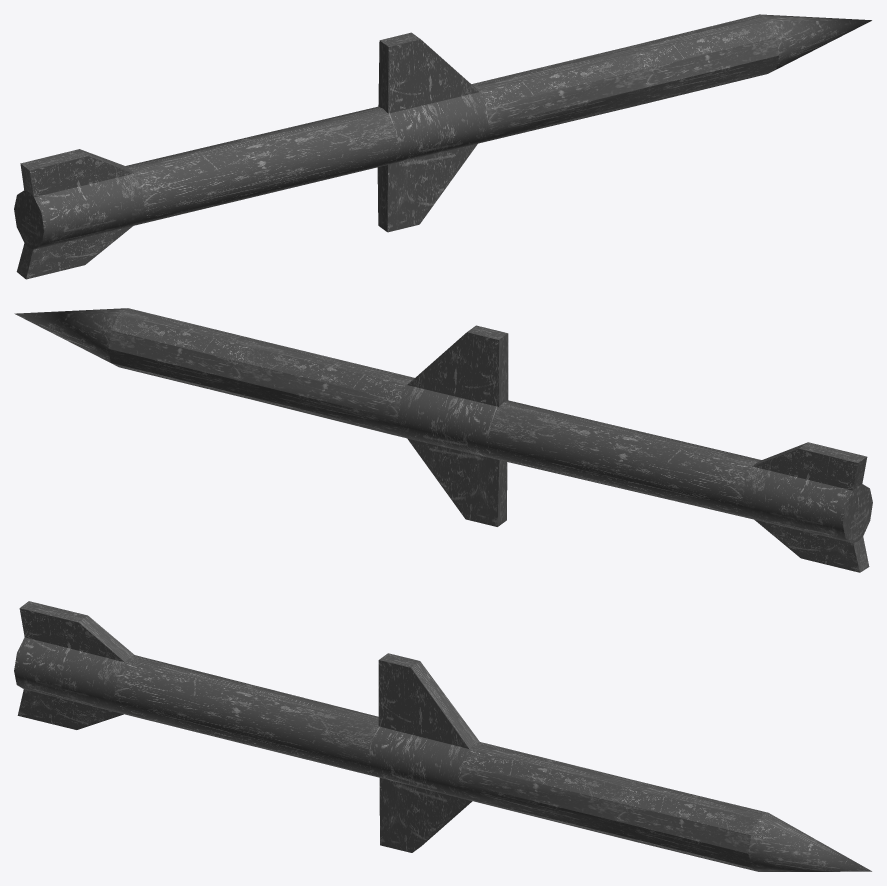
File: Rocket.fbx
3 renders of one model, top to bottom at view 1: azimuth 30°, elevation 25°; view 2: azimuth 150°, elevation 25°; view 3: azimuth 330°, elevation 25°, orthographic.
Parts seen in each view (by area): view 1: pCube8; view 2: pCube8; view 3: pCube8.
Part boxes in pixels (bbox=[...]): pCube8: bbox=[14, 14, 871, 279]; pCube8: bbox=[14, 308, 872, 572]; pCube8: bbox=[14, 601, 871, 871].
Size of the model in its own units: 8.26 by 1.73 by 0.5152.
1 material, 1 textured.
